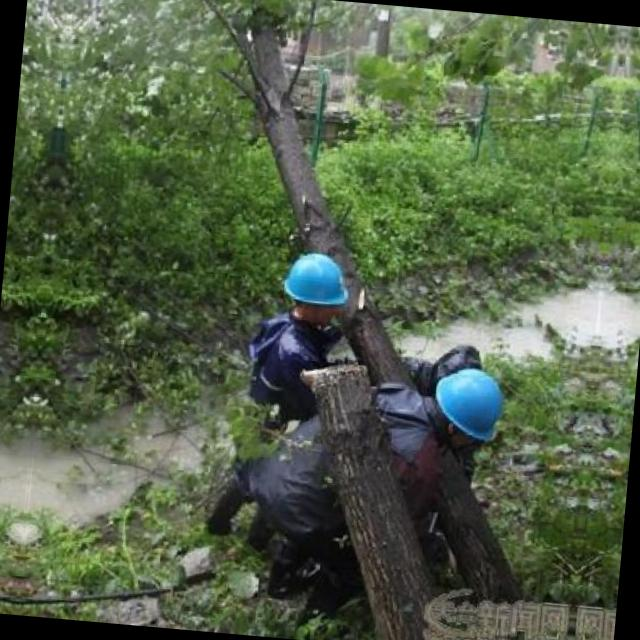helmet: (420, 355, 511, 456), (272, 246, 352, 326)
